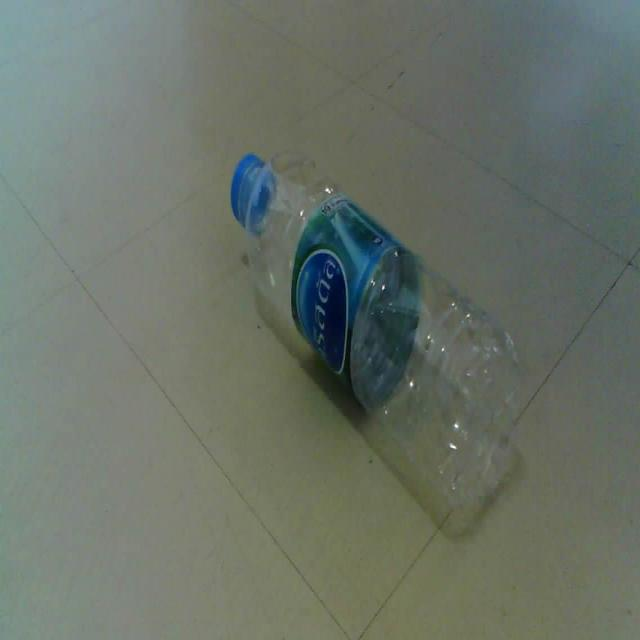empty: (230, 154, 517, 509)
